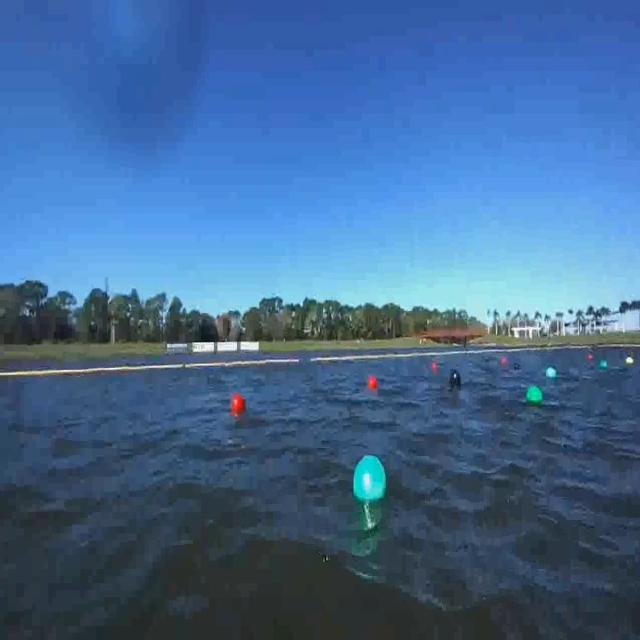black-buoy: (450, 371, 463, 390)
green-buoy: (352, 456, 386, 505), (528, 384, 546, 404), (547, 366, 558, 378), (600, 360, 607, 370)
red-buoy: (232, 395, 246, 417), (367, 377, 376, 391)
yellow-buoy: (626, 357, 634, 368)
